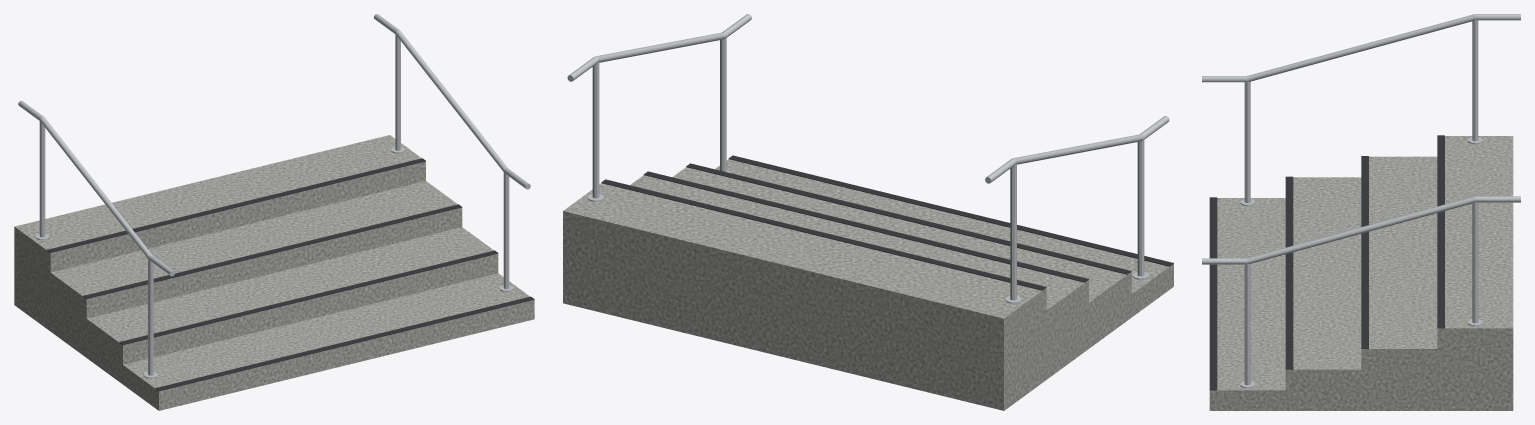
3 views of the same model, side by side, from view 1: azimuth 30°, elevation 25°; view 2: azimuth 150°, elevation 25°; view 3: azimuth 270°, elevation 25° (orthographic). The views are drawn at different scales.
Visible parts, largest first — view 1: level.steps (×3); view 2: level.steps (×3); view 3: level.steps (×3).
Part boxes in pixels (x1,y1,x2,y2): level.steps (×3): (14, 14, 534, 410); level.steps (×3): (563, 14, 1173, 410); level.steps (×3): (1202, 14, 1520, 410).
Size of the model in its own units: 3 by 2.1 by 1.52.
Materials: 3 (1 with a texture image).
